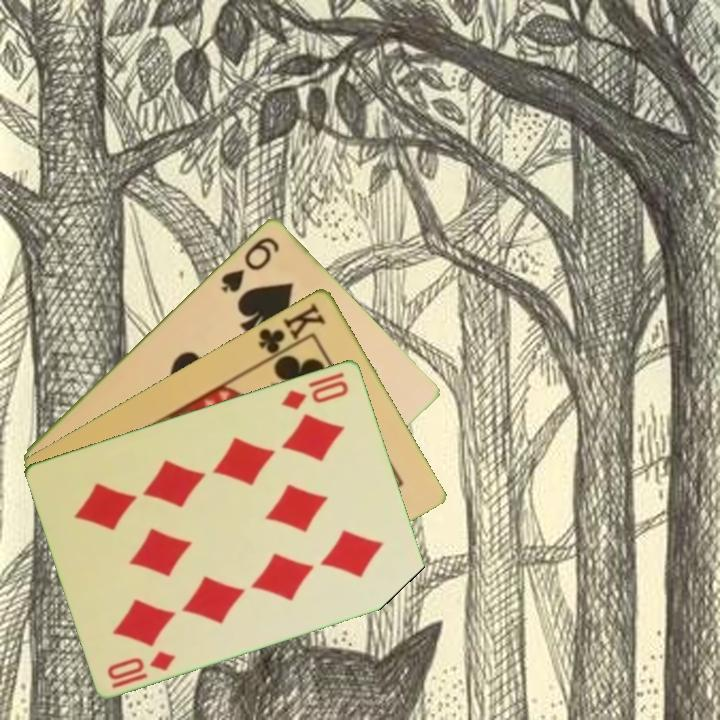10d: (104, 647, 179, 691), (278, 376, 352, 412)
6s: (217, 232, 283, 295)
Kc: (254, 299, 329, 363)
